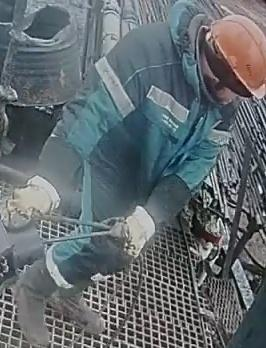gloves: (9, 177, 57, 223), (123, 203, 164, 256)
helmet: (207, 15, 266, 100)
vest: (95, 16, 224, 219)
